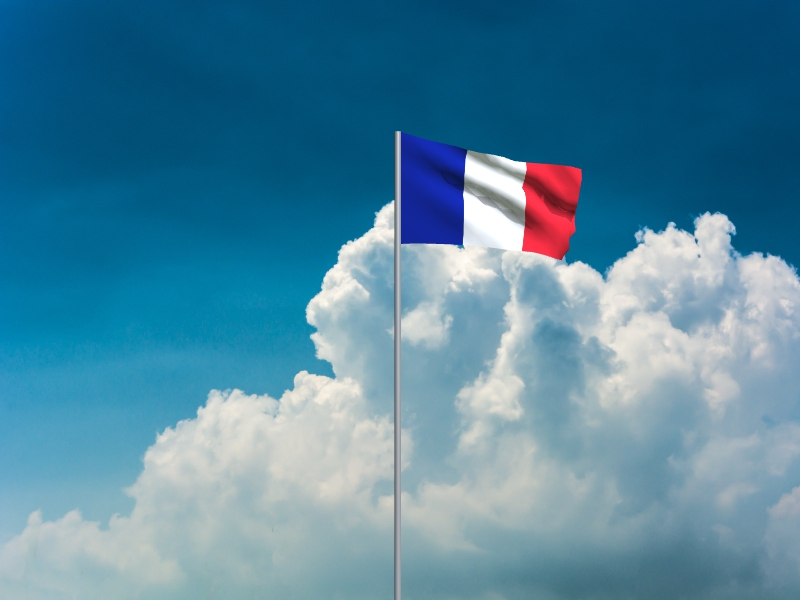fr: (402, 133, 584, 262)
